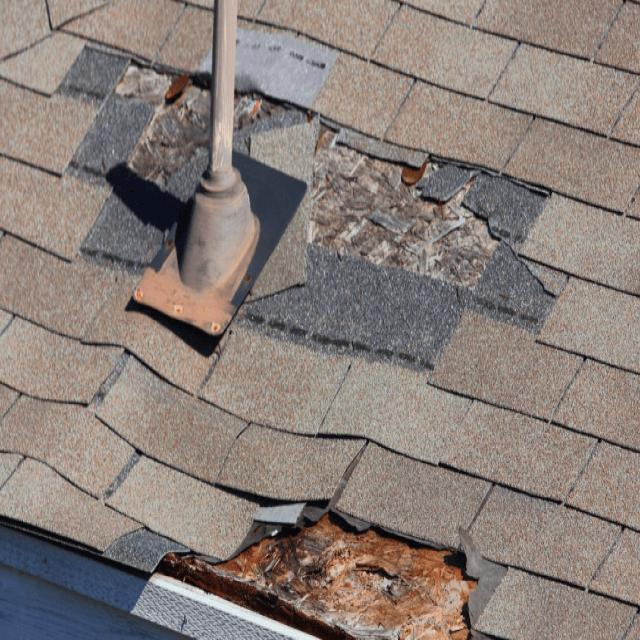damage: (233, 25, 568, 386), (102, 490, 515, 640), (53, 32, 212, 274)
